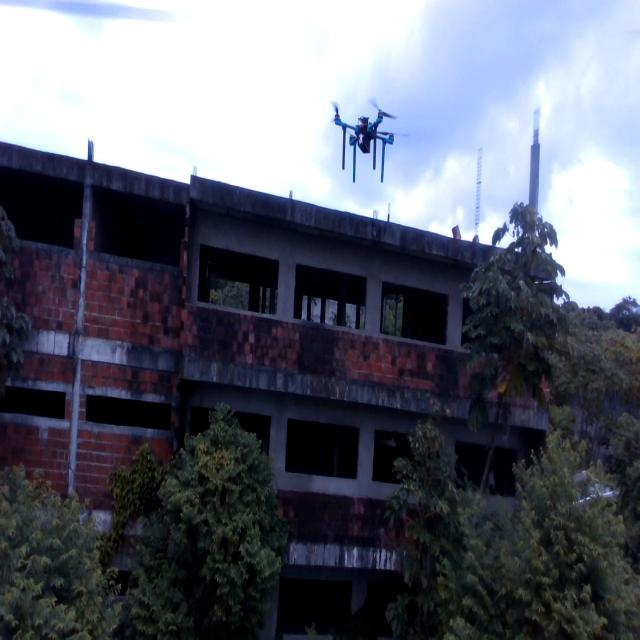-uav-: (319, 83, 407, 196)
